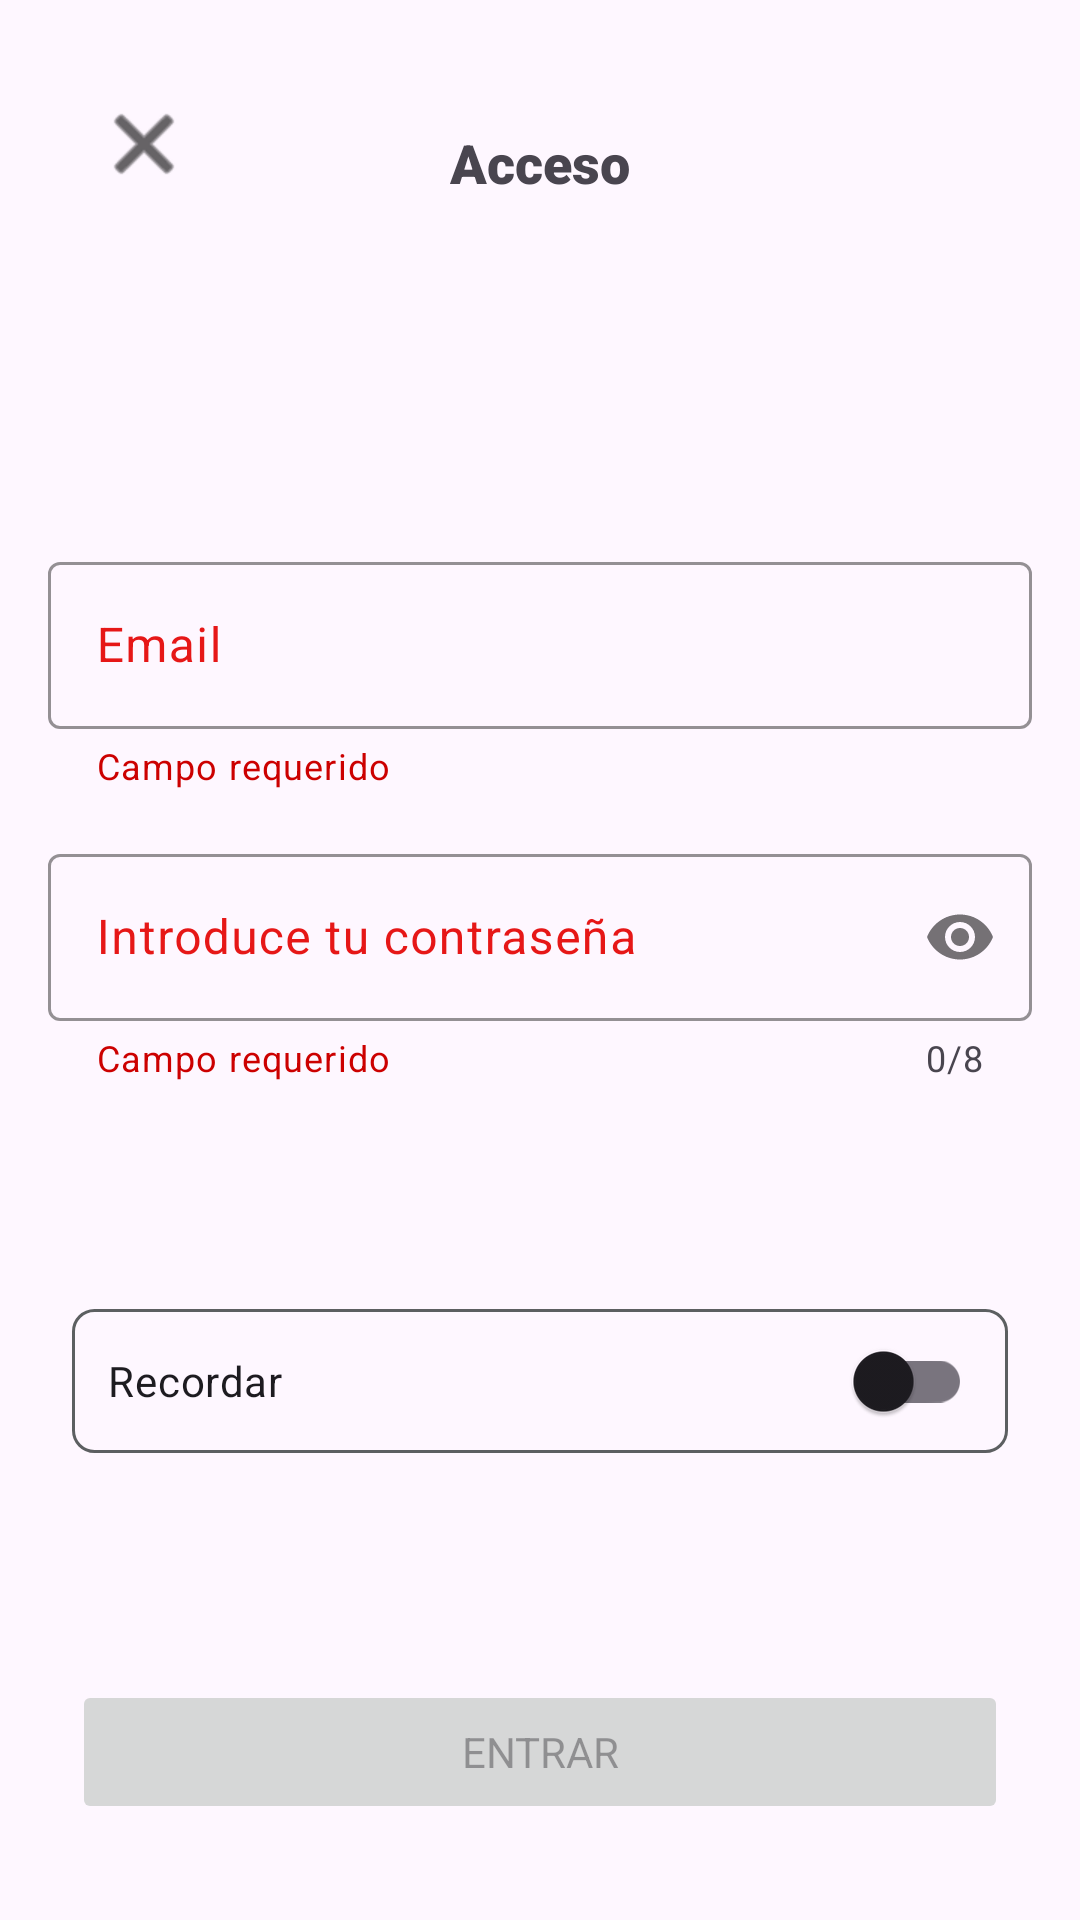

Icons on this 1080w x 1920h Android screen, each with the point to tap as [x,y]:
Cerrar aplicación: [144,144]
